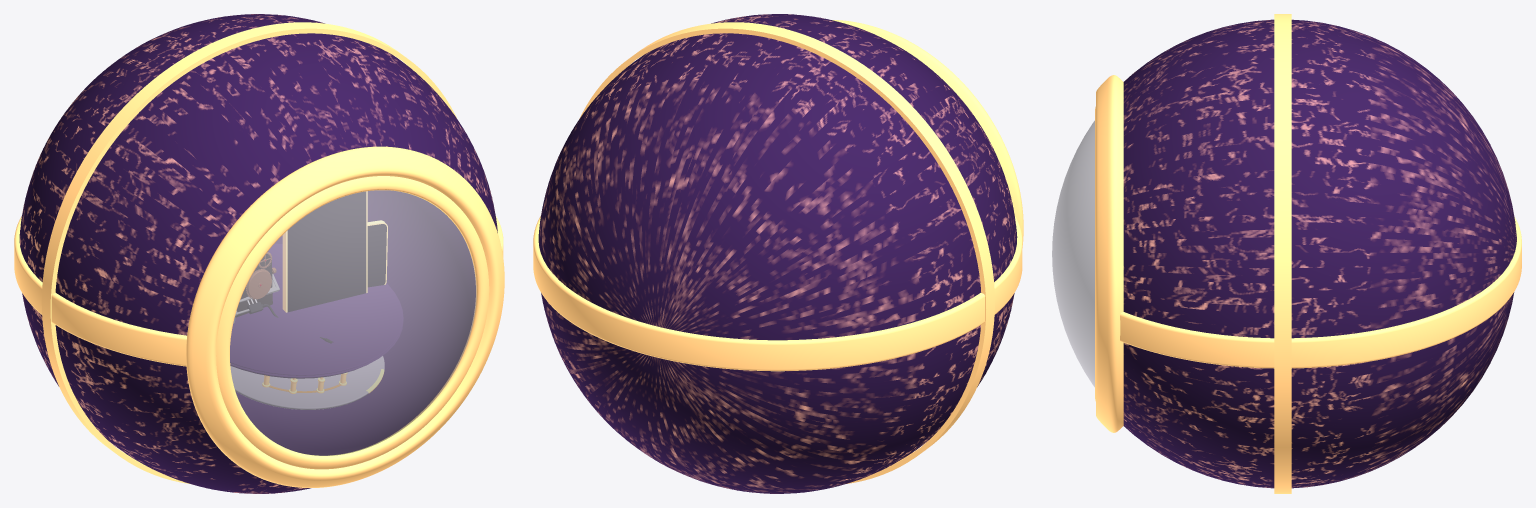
Rendered from bob-beads.glb.
3 views of the same model, side by side, from view 1: azimuth 30°, elevation 25°; view 2: azimuth 150°, elevation 25°; view 3: azimuth 270°, elevation 25° (orthographic). The views are drawn at different scales.
Visible parts, largest first — view 1: bead_cookies-clicker_glass, bead_funcial_glass, bead_funcial_body, bead_cookies-clicker_body, bead_jontai-energy_body, bead_cookies-clicker_frame, bead_cookies-clicker_rim, cookies_floor, bead_cookies-clicker_halo, bead_funcial_display, bead_cookies-clicker_band, funcial_platter (+2 smaller); view 2: bead_funcial_body, bead_cookies-clicker_body, bead_jontai-energy_body, bead_cookies-clicker_band, bead_cookies-clicker_halo, bead_cookies-clicker_frame; view 3: bead_funcial_body, bead_jontai-energy_body, bead_cookies-clicker_body, bead_cookies-clicker_band, bead_cookies-clicker_frame, bead_cookies-clicker_halo, bead_cookies-clicker_glass, bead_funcial_glass.
Part boxes in pixels (<box>): bead_cookies-clicker_glass: <box>230,190,476,455</box>; bead_funcial_glass: <box>230,191,475,455</box>; bead_funcial_body: <box>19,14,497,493</box>; bead_cookies-clicker_body: <box>19,14,497,493</box>; bead_jontai-energy_body: <box>20,14,496,493</box>; bead_cookies-clicker_frame: <box>186,146,504,487</box>; bead_cookies-clicker_rim: <box>216,176,489,469</box>; cookies_floor: <box>230,244,403,375</box>; bead_cookies-clicker_halo: <box>41,22,456,483</box>; bead_funcial_display: <box>283,191,367,312</box>; bead_cookies-clicker_band: <box>14,216,503,366</box>; funcial_platter: <box>230,356,384,409</box>; bead_funcial_body: <box>538,14,1016,493</box>; bead_cookies-clicker_body: <box>539,14,1017,493</box>; bead_jontai-energy_body: <box>540,14,1016,493</box>; bead_cookies-clicker_band: <box>533,216,1022,371</box>; bead_cookies-clicker_halo: <box>579,22,994,483</box>; bead_cookies-clicker_frame: <box>832,20,1023,247</box>; bead_funcial_body: <box>1123,20,1516,487</box>; bead_jontai-energy_body: <box>1123,20,1516,488</box>; bead_cookies-clicker_body: <box>1123,19,1516,488</box>; bead_cookies-clicker_band: <box>1120,217,1521,368</box>; bead_cookies-clicker_frame: <box>1096,75,1123,432</box>; bead_cookies-clicker_halo: <box>1274,14,1291,493</box>; bead_cookies-clicker_glass: <box>1052,121,1094,386</box>; bead_funcial_glass: <box>1052,121,1094,386</box>.
Size of the model in its own units: 1.94 by 1.94 by 1.9.
